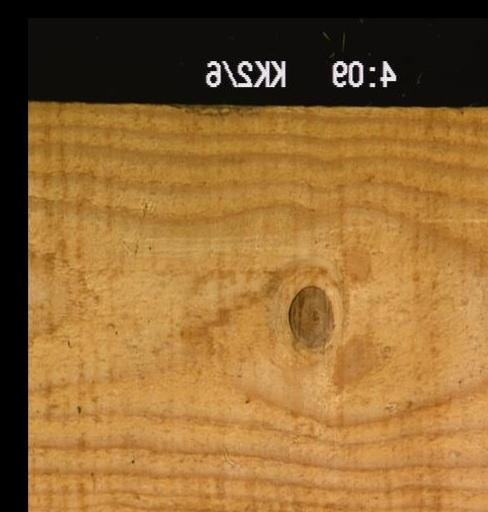dry_knot: (287, 283, 334, 349)
